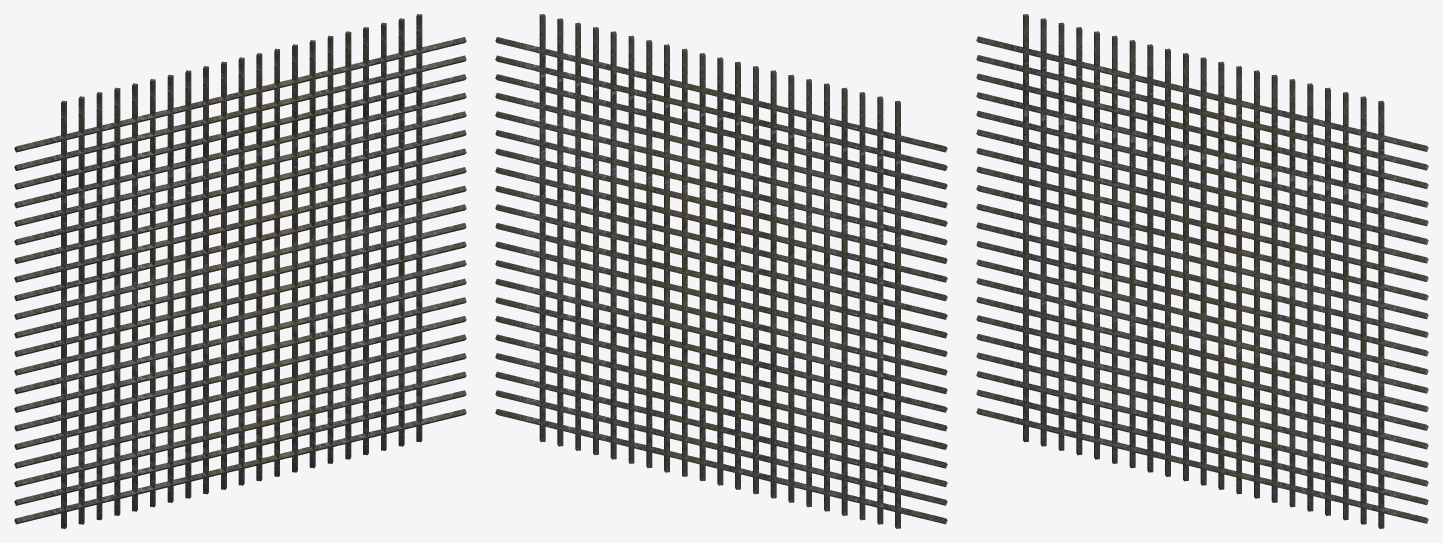
File: gate.obj
The picture shows the model from 3 angles, left to right: view 1: azimuth 30°, elevation 25°; view 2: azimuth 150°, elevation 25°; view 3: azimuth 330°, elevation 25°; orthographic projection.
Visible parts, largest first — view 1: Cube.001, Cube; view 2: Cube.001, Cube; view 3: Cube.001, Cube.
Part boxes in pixels (x1=…): Cube.001: x1=14, y1=37, x2=466, y2=524; Cube: x1=61, y1=14, x2=422, y2=528; Cube.001: x1=495, y1=37, x2=947, y2=524; Cube: x1=539, y1=14, x2=900, y2=528; Cube.001: x1=976, y1=36, x2=1428, y2=523; Cube: x1=1023, y1=14, x2=1384, y2=528.
Bounding box in the file's own units: 52.39 × 47.47 × 0.691.
1 material, 1 textured.
